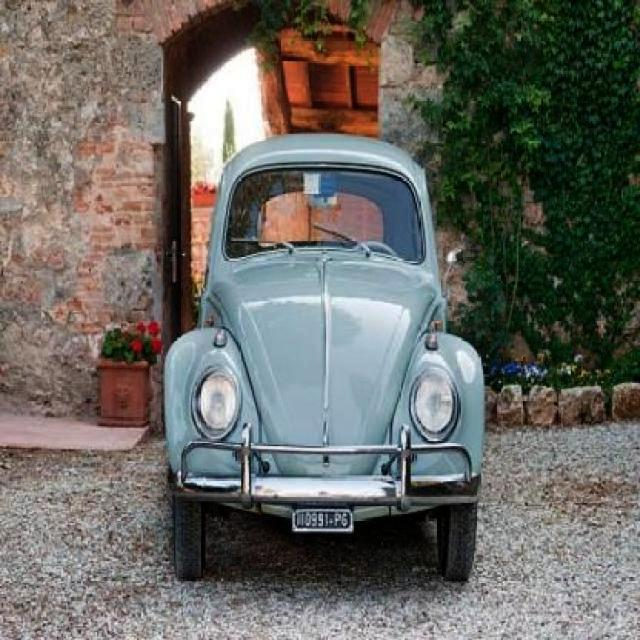car: (161, 130, 486, 592)
